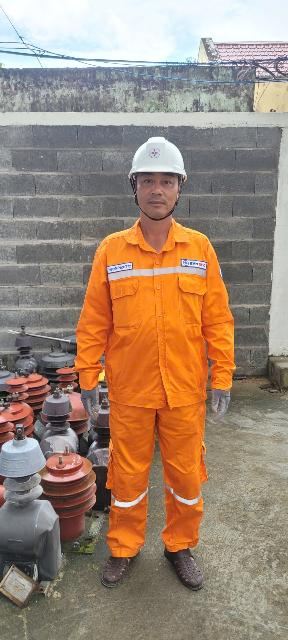gloves: (74, 380, 112, 428), (208, 375, 233, 426)
helmet: (122, 133, 201, 191)
shoes: (87, 533, 142, 588), (167, 534, 209, 592)
